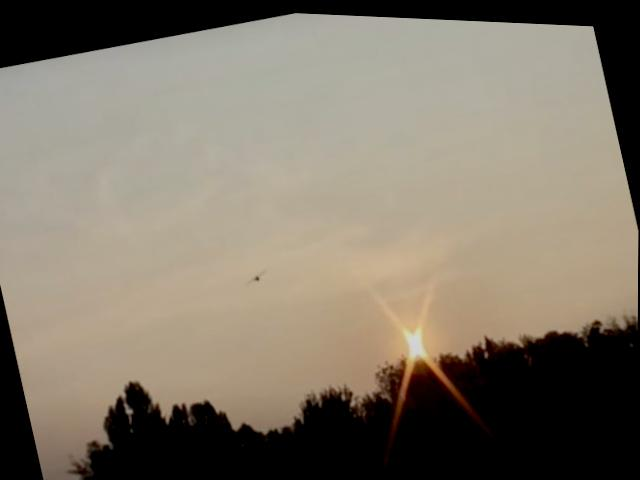iha: (244, 265, 268, 282)
